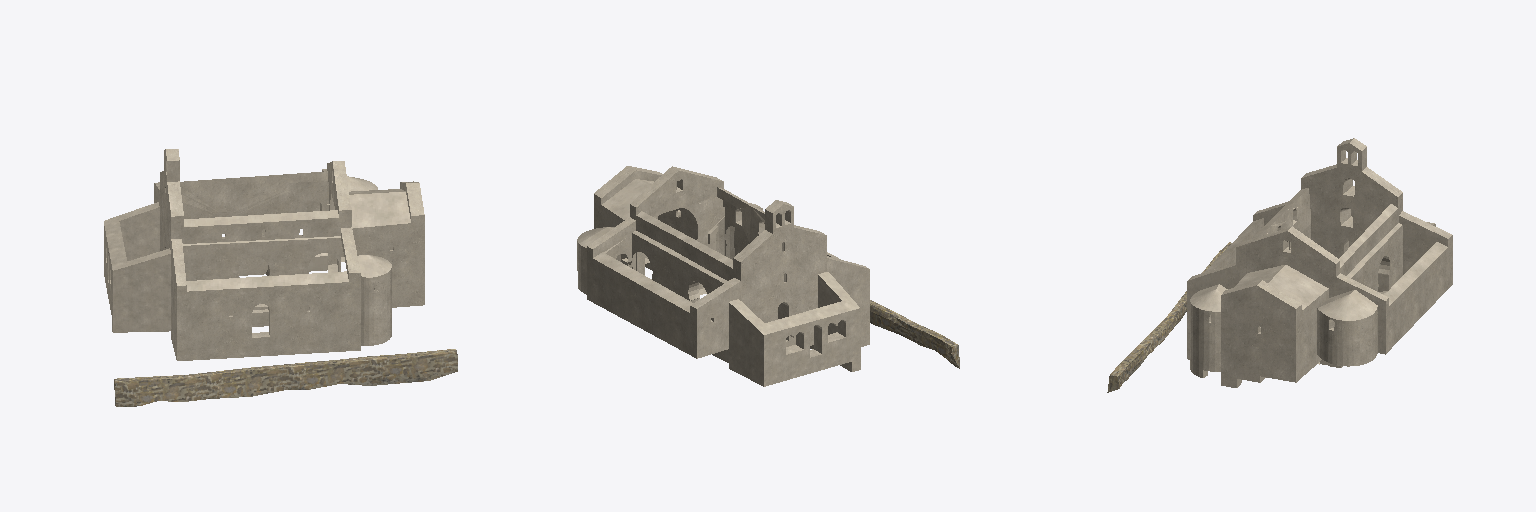
The picture shows the model from 3 angles: view 1: azimuth 30°, elevation 25°; view 2: azimuth 150°, elevation 25°; view 3: azimuth 270°, elevation 25°; orthographic projection.
Visible parts, largest first — view 1: PEDRET_XII-baked-1.002; view 2: PEDRET_XII-baked-1.002; view 3: PEDRET_XII-baked-1.002.
Boxes of the visible parts, x1,y1,x2,y2 form: PEDRET_XII-baked-1.002: [104, 149, 457, 406]; PEDRET_XII-baked-1.002: [577, 166, 959, 386]; PEDRET_XII-baked-1.002: [1107, 138, 1452, 392].
Bounding box in the file's own units: 23.23 × 12.3 × 20.89.
1 materials, 1 textured.